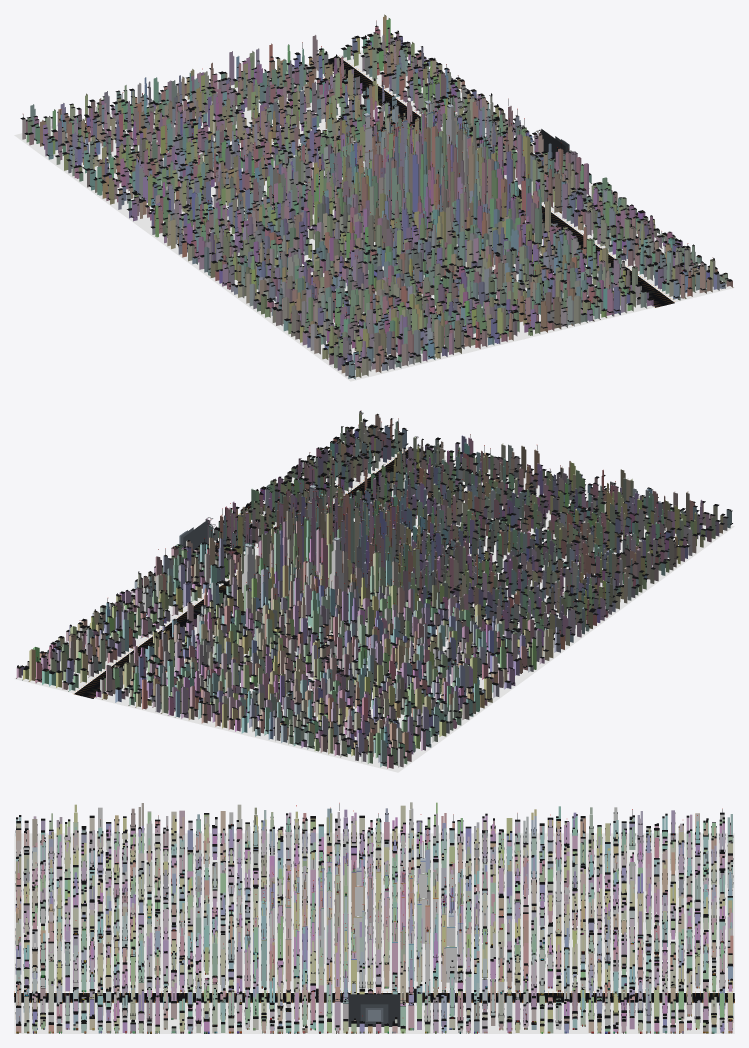
File: City.fbx
The picture shows the model from 3 angles, top to bottom: view 1: azimuth 30°, elevation 25°; view 2: azimuth 150°, elevation 25°; view 3: azimuth 270°, elevation 25°; orthographic projection. The views are drawn at different scales.
Visible parts, largest first — view 1: City towers, City roofs, City streets; view 2: City towers, City roofs, City streets; view 3: City towers, City streets, City roofs, Rain.
Boxes of the visible parts, <box> form: City towers: <box>22,14,732,379</box>; City roofs: <box>20,20,733,377</box>; City streets: <box>14,50,734,381</box>; City towers: <box>16,412,731,768</box>; City roofs: <box>16,410,732,764</box>; City streets: <box>14,433,734,772</box>; City towers: <box>15,802,733,1033</box>; City streets: <box>14,833,734,1033</box>; City roofs: <box>14,803,734,1033</box>; Rain: <box>348,994,400,1026</box>.
Bounding box in the file's own units: 928 × 260 × 1410.
